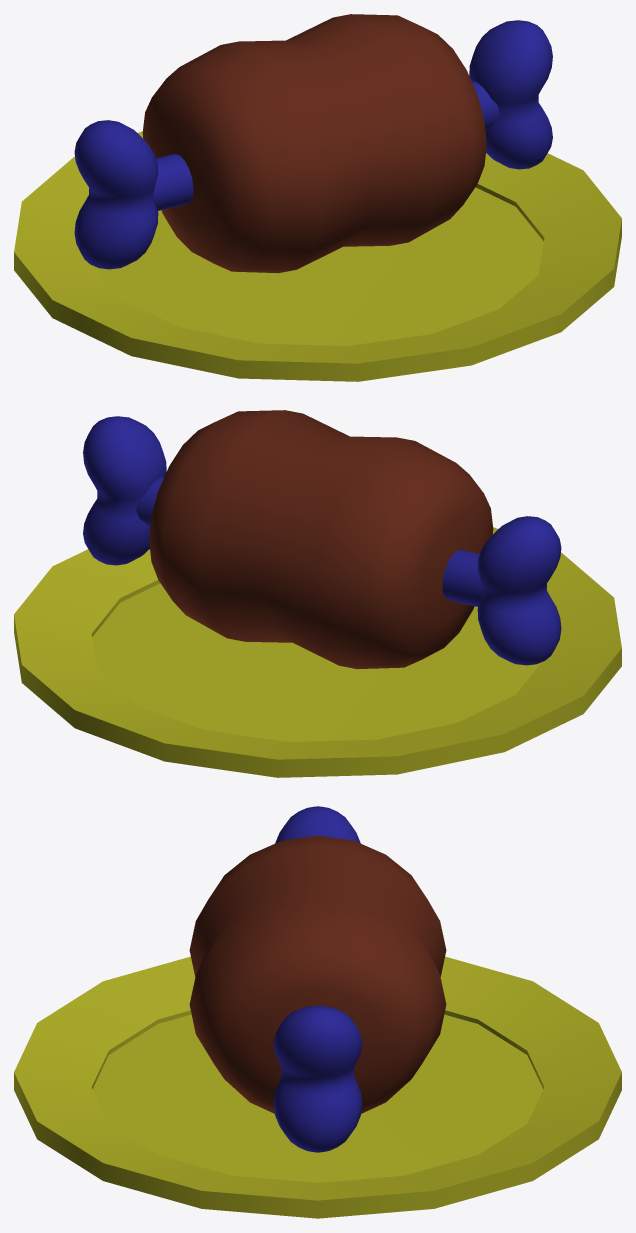
File: Food.fbx
3 views of the same model, one above another, from view 1: azimuth 30°, elevation 25°; view 2: azimuth 150°, elevation 25°; view 3: azimuth 270°, elevation 25° (orthographic).
Visible parts, largest first — view 1: Food; view 2: Food; view 3: Food.
Boxes of the visible parts, x1,y1,x2,y2 form: Food: (14,14,621,381); Food: (14,410,621,777); Food: (14,806,621,1218).
Bounding box in the file's own units: 97.07 × 39.82 × 97.07.
